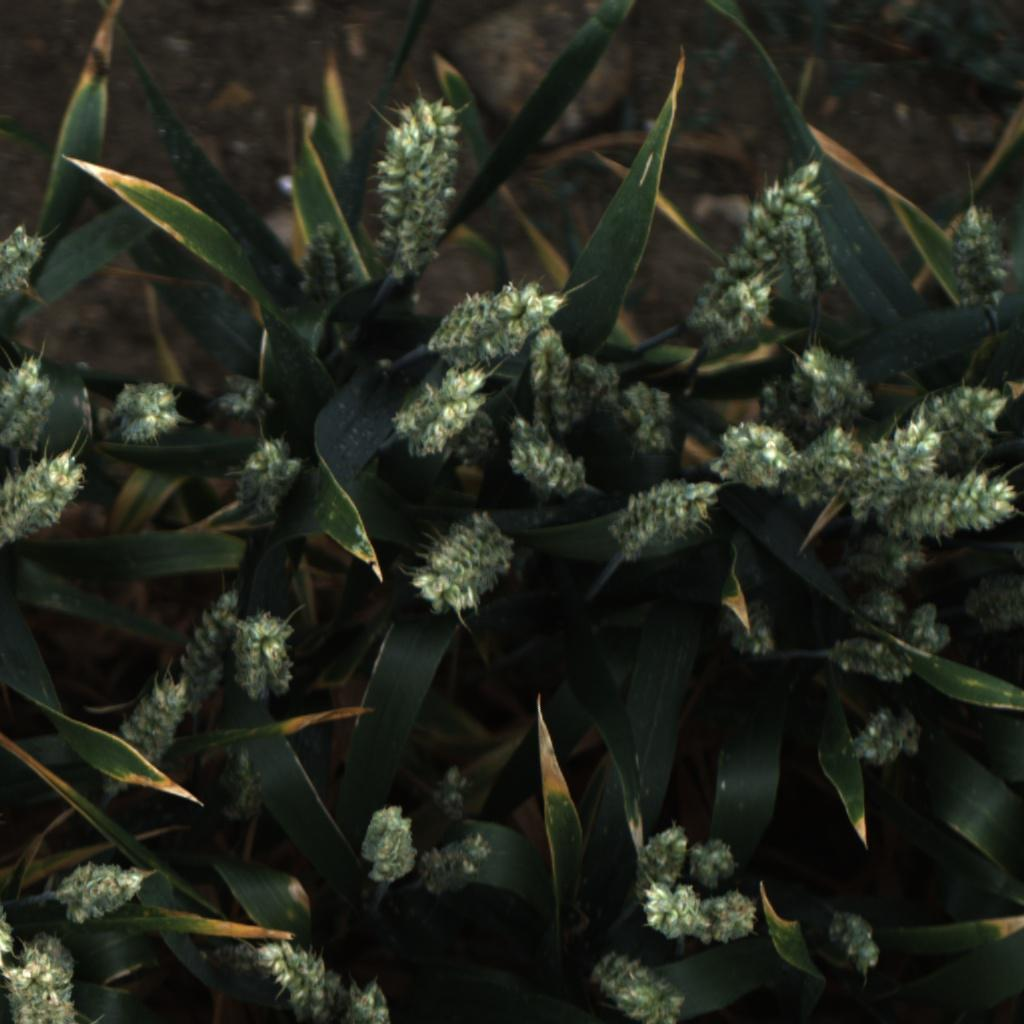0-0: (680, 157, 821, 319), (375, 97, 469, 281), (204, 938, 392, 1024), (424, 270, 566, 363), (383, 361, 505, 468), (414, 514, 517, 619), (887, 466, 1020, 545), (907, 376, 1013, 471), (0, 448, 90, 554), (610, 478, 720, 564), (857, 415, 938, 525), (177, 580, 244, 710), (785, 338, 879, 425), (949, 196, 1017, 314), (258, 930, 342, 1024), (0, 931, 84, 1024), (231, 602, 306, 704), (500, 415, 591, 497), (784, 422, 859, 519), (590, 951, 686, 1024), (229, 434, 308, 521), (351, 796, 421, 889), (710, 419, 799, 491), (557, 342, 633, 421), (59, 861, 154, 924), (107, 374, 189, 445), (701, 273, 780, 345), (710, 591, 783, 668), (416, 828, 496, 898), (0, 350, 53, 453), (842, 704, 924, 769), (299, 218, 362, 302), (123, 673, 187, 754), (820, 632, 914, 687), (840, 533, 931, 589), (624, 811, 692, 884), (785, 207, 838, 299), (632, 878, 707, 942), (821, 906, 885, 979), (620, 382, 682, 455), (520, 322, 577, 401), (697, 888, 773, 945), (208, 367, 279, 427), (0, 219, 51, 302), (217, 745, 266, 828), (961, 570, 1024, 634), (905, 601, 962, 661), (689, 831, 744, 891), (428, 759, 476, 823), (845, 585, 906, 634)
